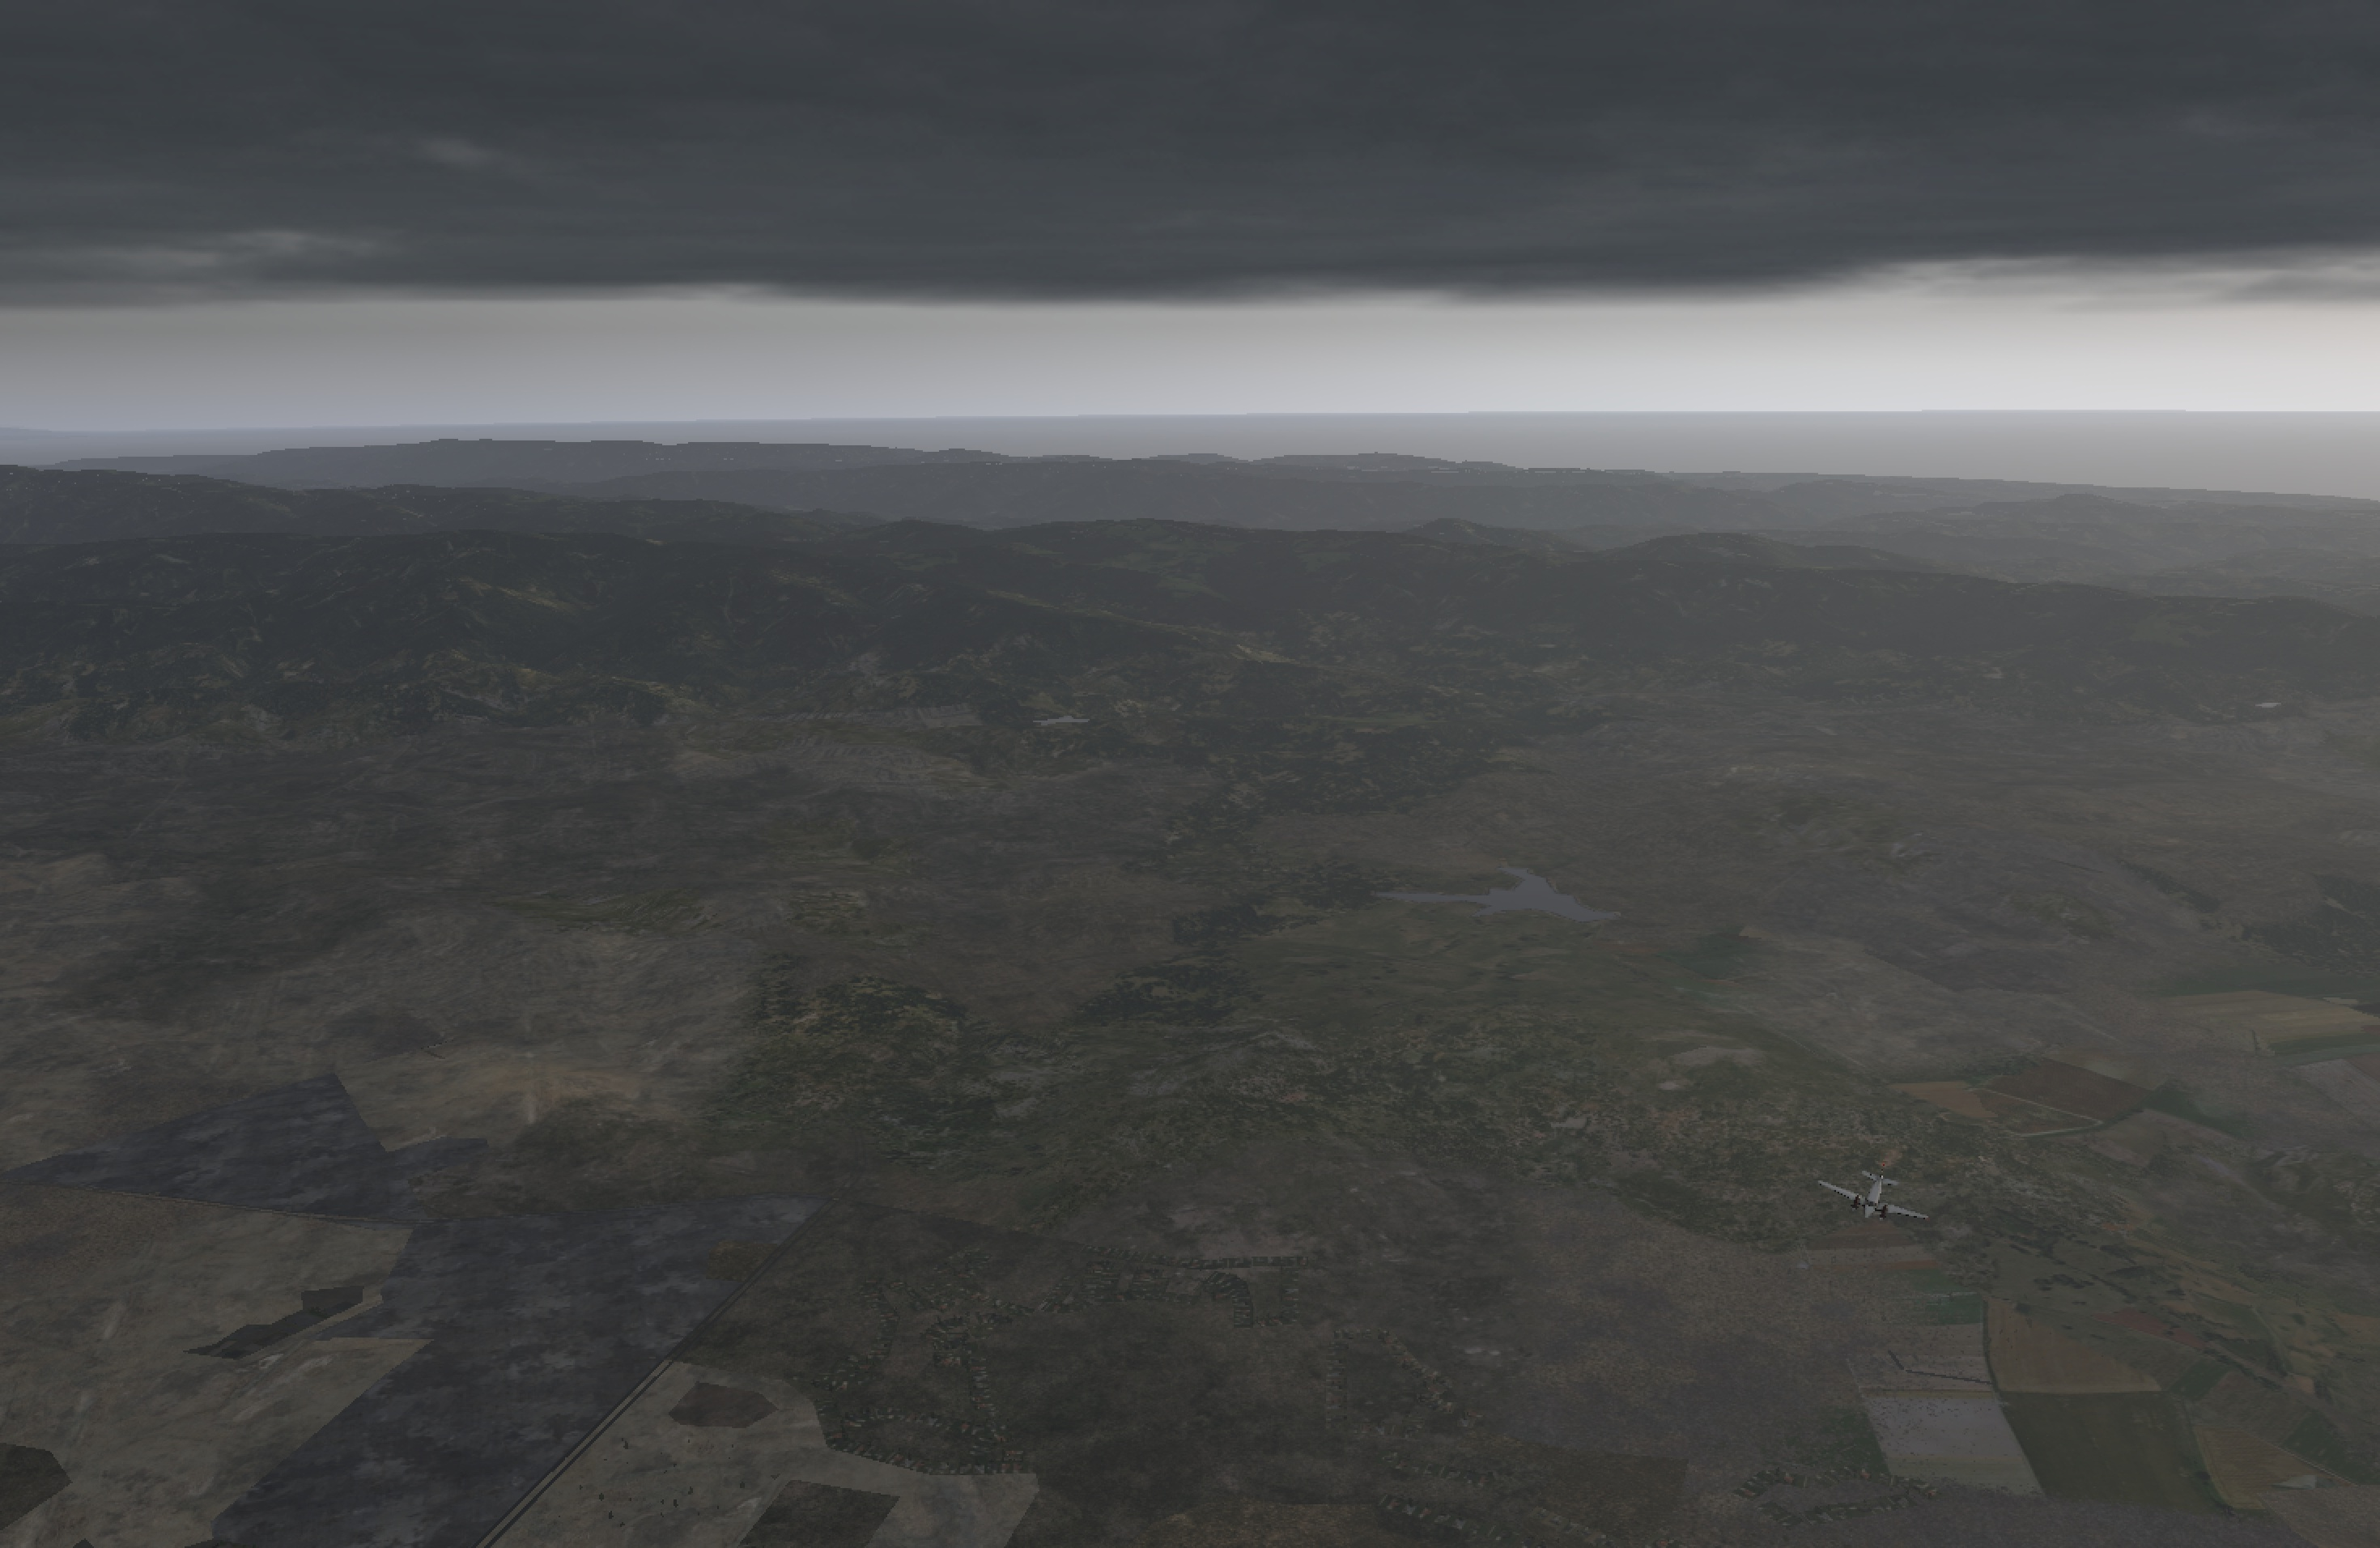aircraft: (1820, 1187, 1922, 1225)
